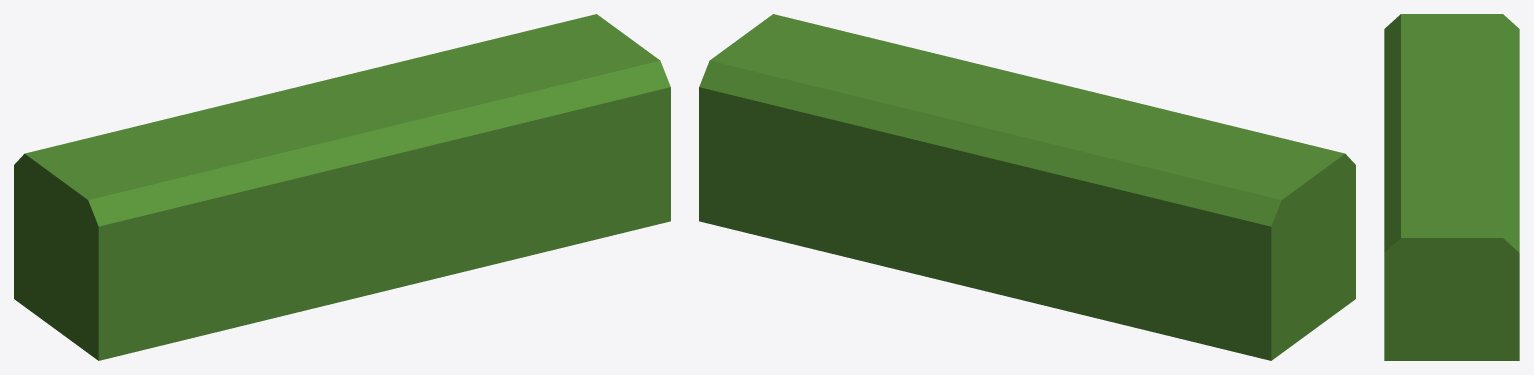
Rendered from Hedge 1.fbx.
The picture shows the model from 3 angles, left to right: view 1: azimuth 30°, elevation 25°; view 2: azimuth 150°, elevation 25°; view 3: azimuth 270°, elevation 25°; orthographic projection. The views are drawn at different scales.
Parts seen in each view (by area): view 1: Hedge 1; view 2: Hedge 1; view 3: Hedge 1.
Part boxes in pixels (bbox=[...]): Hedge 1: bbox=[14, 14, 670, 360]; Hedge 1: bbox=[699, 14, 1355, 360]; Hedge 1: bbox=[1384, 14, 1519, 360].
Size of the model in its own units: 391 by 100 by 100.
Materials: 1 (1 with a texture image).
